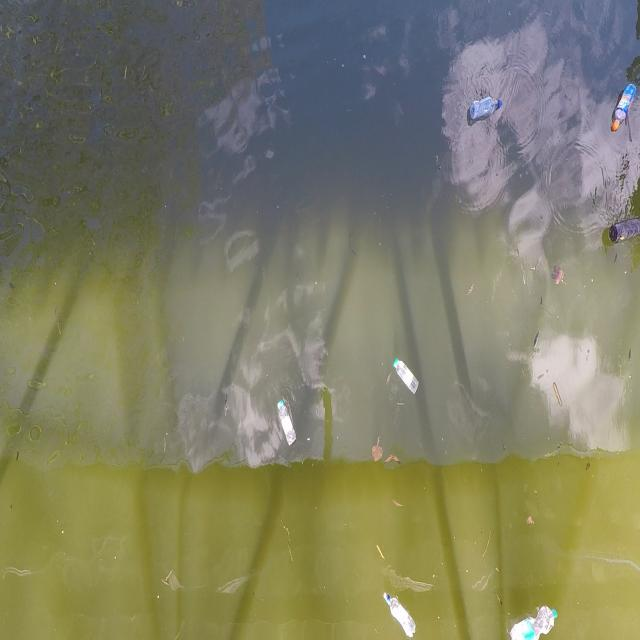Bouteille plastique: (379, 587, 420, 640), (508, 602, 562, 640), (609, 80, 640, 136), (605, 205, 640, 251), (465, 91, 505, 129), (273, 396, 300, 452), (390, 355, 424, 399)
